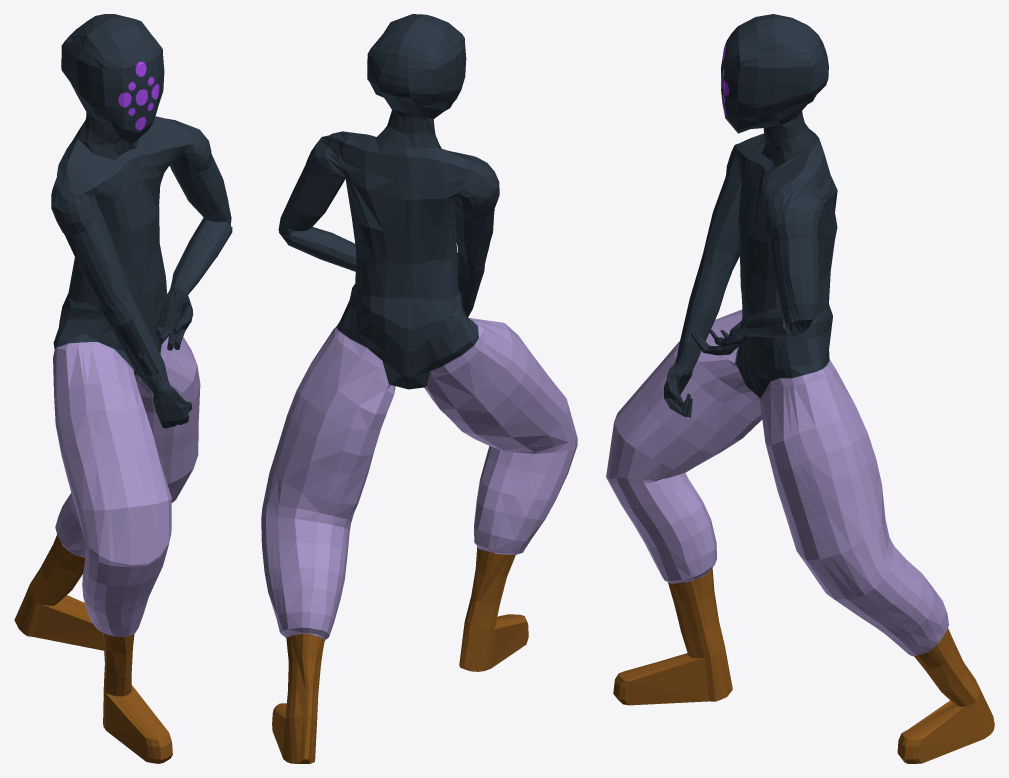
File: Oracle_WB_000017.obj
The picture shows the model from 3 angles, left to right: view 1: azimuth 30°, elevation 25°; view 2: azimuth 150°, elevation 25°; view 3: azimuth 270°, elevation 25°; orthographic projection. The views are drawn at different scales.
Parts seen in each view (by area): view 1: Cube; view 2: Cube; view 3: Cube.
Part boxes in pixels (x1,y1,x2,y2): Cube: [14, 14, 232, 763]; Cube: [261, 14, 577, 763]; Cube: [606, 14, 994, 763].
Bounding box in the file's own units: 1.21 × 3.67 × 1.82.
